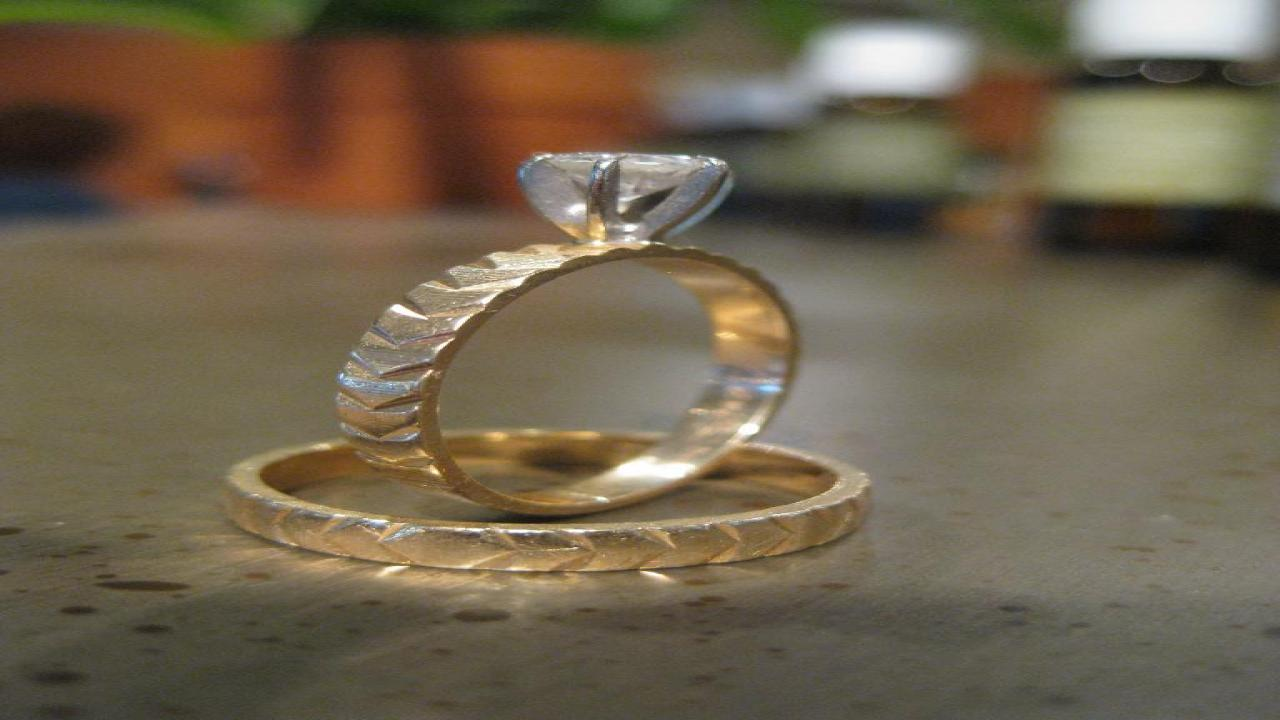ring: (328, 149, 804, 518), (219, 427, 869, 575)
